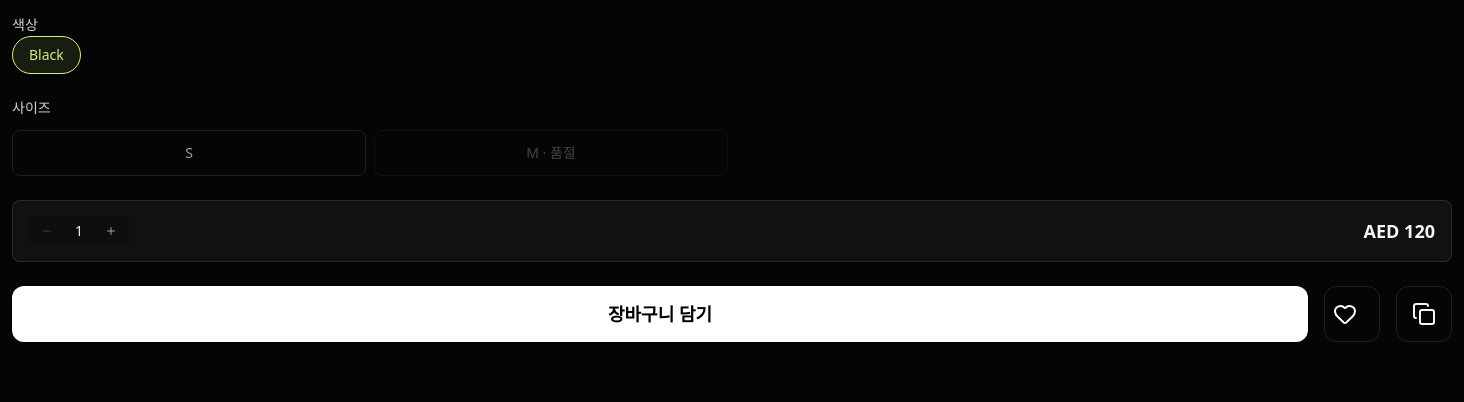
it: ProductPurchaseActions › retains the stock ceiling when Korean controls change quantity
The width and height of the screenshot is (1464, 402).
Click the button "S" at (189,153), box [12,130,366,176]
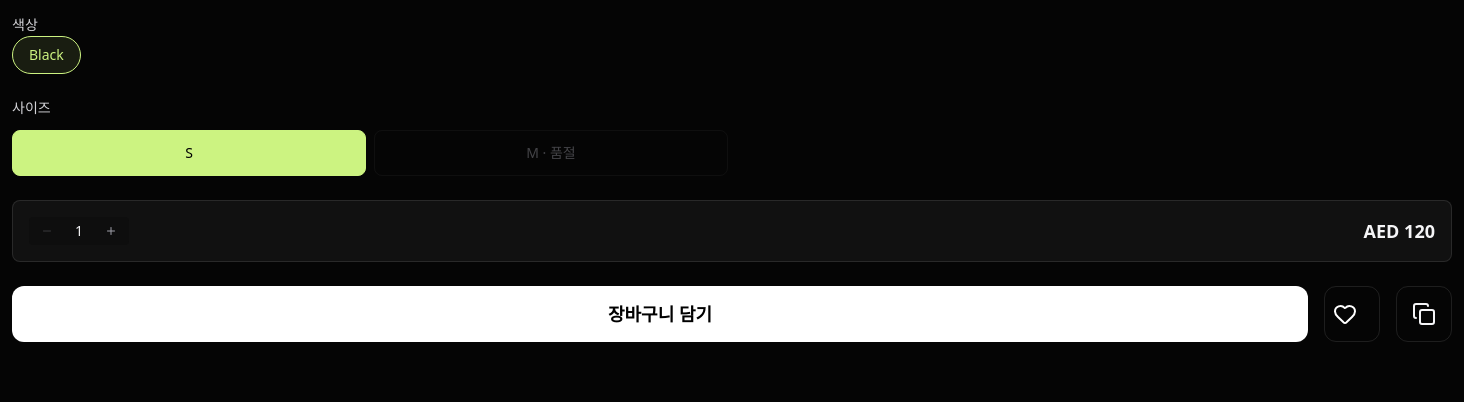
Click the button named "수량 늘리기" at (111,231), box [101,221,121,241]
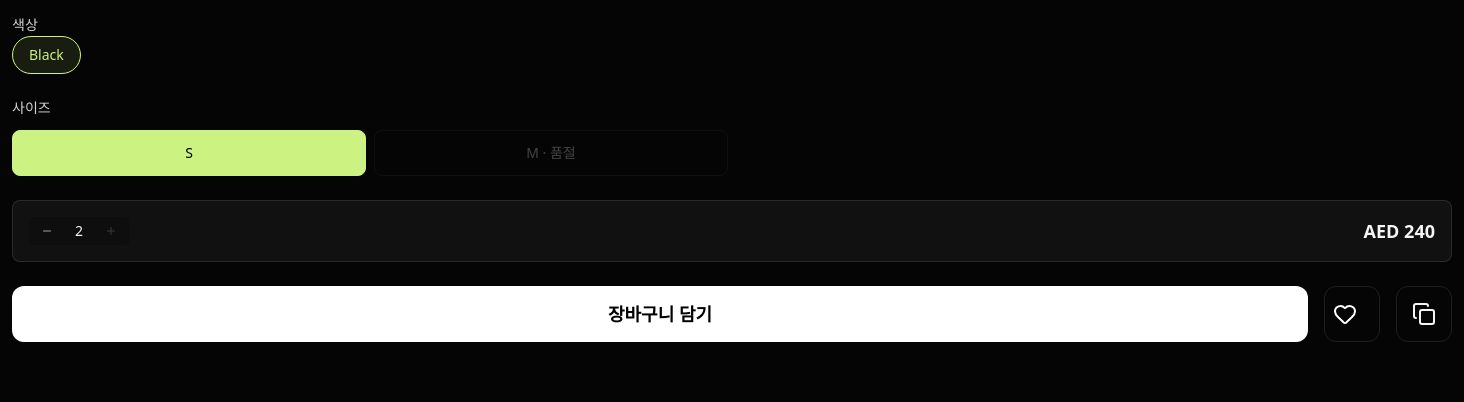
Expected: the button named "수량 늘리기" is disabled, [101,221,121,241]
Click the button "장바구니 담기" at (660,314), box [12,286,1308,342]
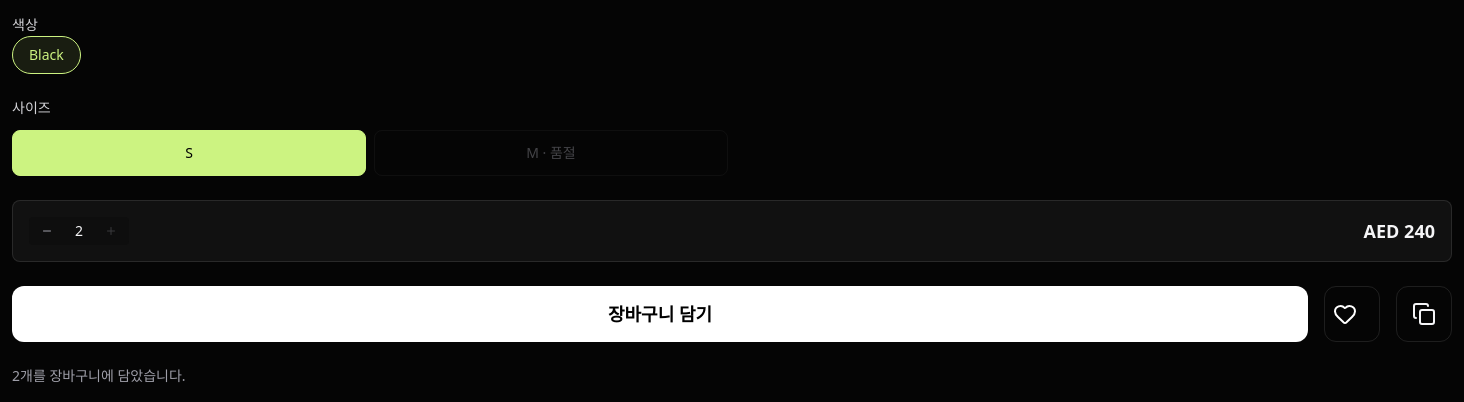
Expected: the message reads "2개를 장바구니에 담았습니다.", [12,366,186,385]
